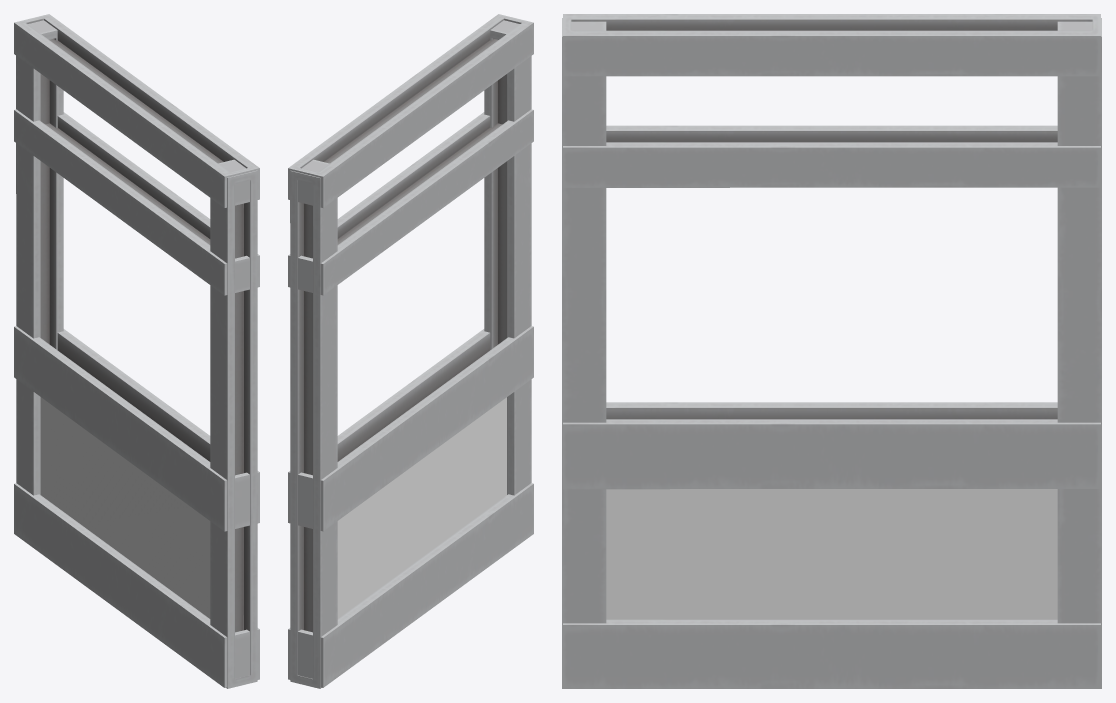
The model's file is Pfb_GlassWall__4.fbx.
3 renders of one model, left to right at view 1: azimuth 30°, elevation 25°; view 2: azimuth 150°, elevation 25°; view 3: azimuth 270°, elevation 25°, orthographic. The views are drawn at different scales.
Parts seen in each view (by area): view 1: Mat_SteelFrame_01 7, Duck 6; view 2: Mat_SteelFrame_01 7, Duck 6; view 3: Mat_SteelFrame_01 7, Duck 6.
Part boxes in pixels (left/top/right/bottom): Mat_SteelFrame_01 7: left=14, top=14, right=259, bottom=688; Duck 6: left=40, top=397, right=210, bottom=618; Mat_SteelFrame_01 7: left=288, top=14, right=533, bottom=688; Duck 6: left=337, top=397, right=506, bottom=618; Mat_SteelFrame_01 7: left=562, top=14, right=1101, bottom=688; Duck 6: left=606, top=489, right=1057, bottom=619.
Size of the model in its own units: 0.2893 by 4.01 by 3.
Materials: 2 (2 with a texture image).
